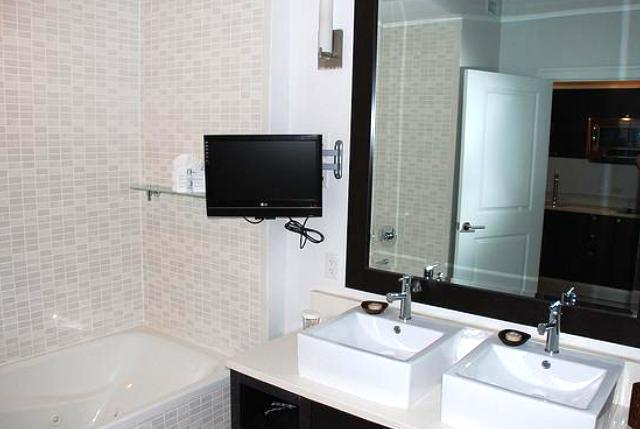Lavamanos: (439, 300, 622, 429), (302, 272, 452, 417)
